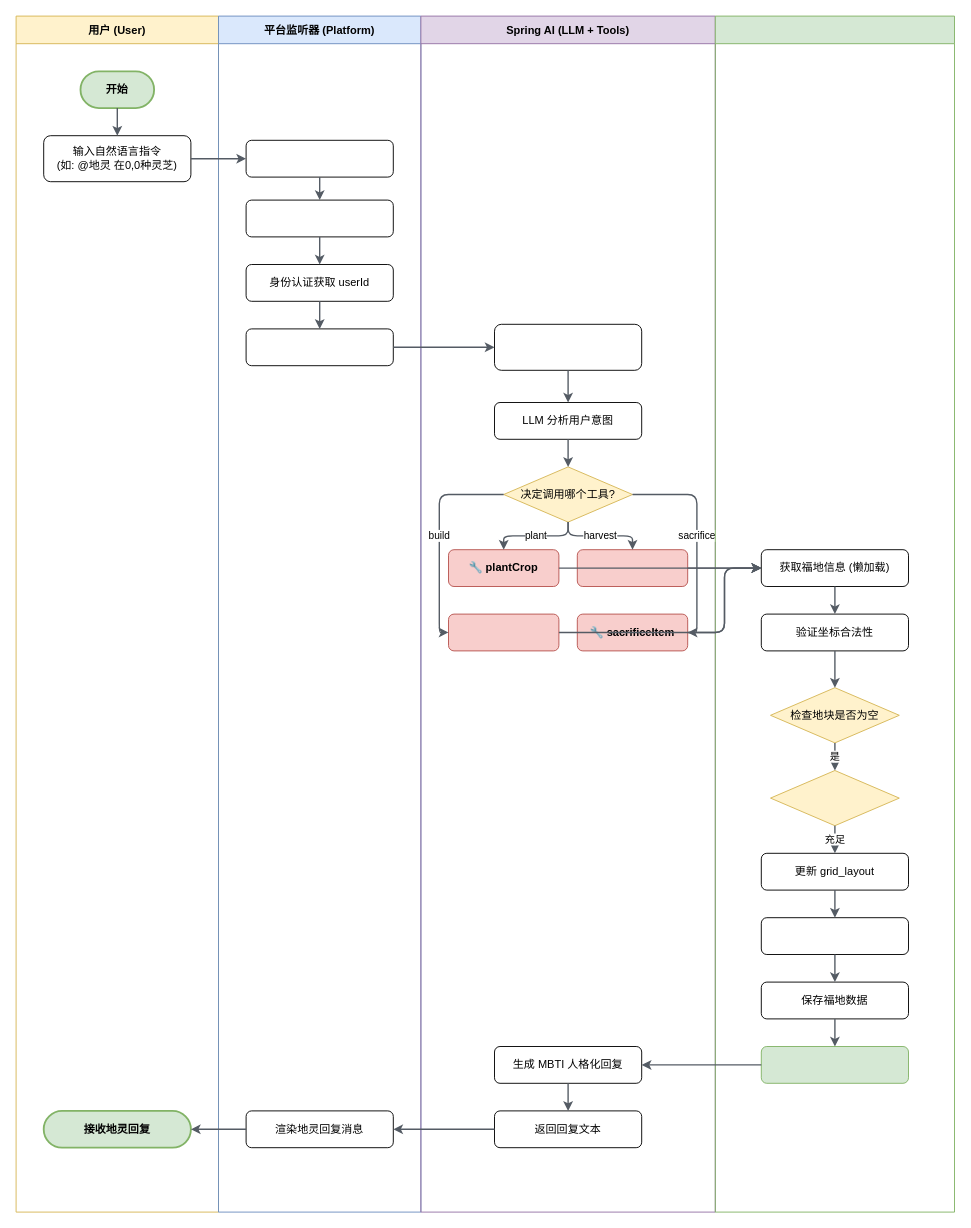
Image size: 971x1228. Some labels were removed from this diagram. The box of each missing label's shape, as (x1, y1, x2, y2) in pixels:
FudiService / SpiritTools: (714, 15, 954, 1212)
扣除地灵精力: (760, 917, 908, 954)
提取用户输入文本: (245, 199, 393, 237)
构建系统 Prompt (含福地状态 + MBTI人格): (494, 323, 642, 370)
检查地灵精力: (770, 770, 899, 826)
检测 @地灵 提及: (245, 139, 393, 177)
调用 SpiritChatService: (245, 328, 393, 366)
返回工具执行结果: (760, 1046, 908, 1083)
🔧 buildCell: (448, 613, 559, 651)
🔧 harvestCrop: (576, 549, 688, 586)
